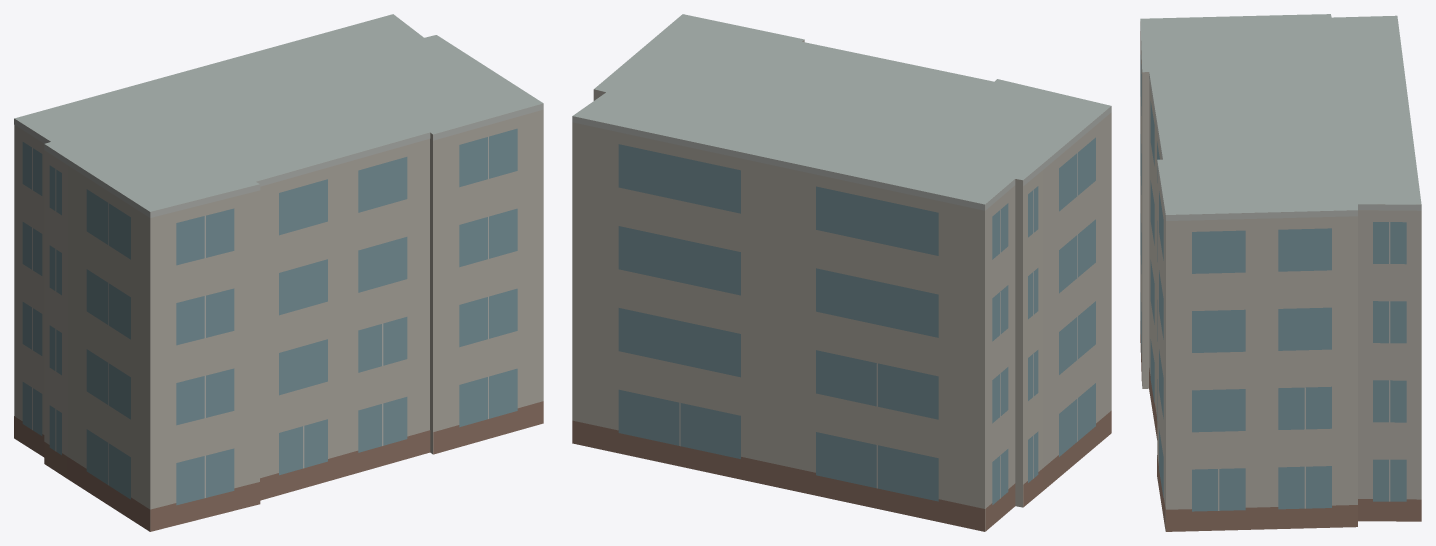
The model's file is survey-upis-32951059.glb.
3 renders of one model, left to right at view 1: azimuth 30°, elevation 25°; view 2: azimuth 150°, elevation 25°; view 3: azimuth 270°, elevation 25°, orthographic. The views are drawn at different scales.
Parts seen in each view (by area): view 1: survey-upis-32951059.tmp; view 2: survey-upis-32951059.tmp; view 3: survey-upis-32951059.tmp.
Part boxes in pixels (<box>): survey-upis-32951059.tmp: <box>14,14,543,531</box>; survey-upis-32951059.tmp: <box>572,14,1111,531</box>; survey-upis-32951059.tmp: <box>1140,14,1421,531</box>.
Size of the model in its own units: 17.29 by 12.7 by 10.23.
